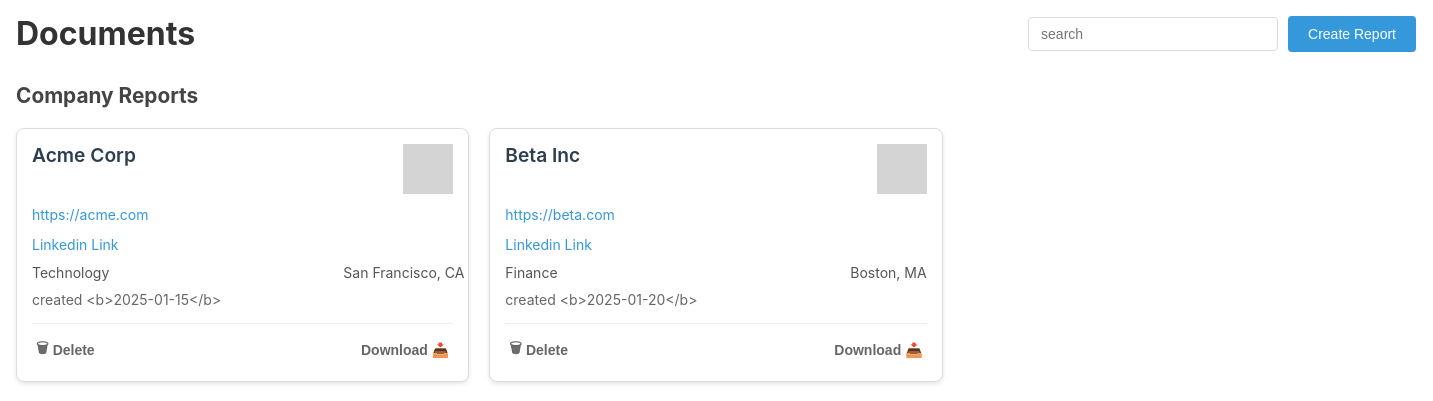
Test: Documents Component › Search Functionality › search is case insensitive
Expected: the heading "Acme Corp" is shown, [32,143,136,167]
Step 1. Type "acme" into the field with placeholder "search" → (1153, 34), box [1028,16,1278,50]
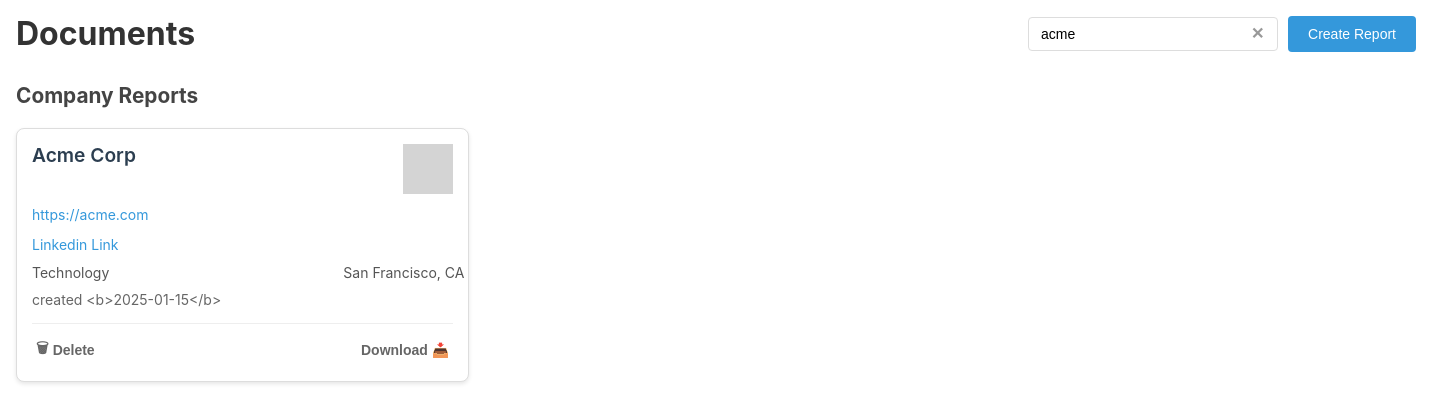
Expected: the heading "Acme Corp" is shown, [32,143,136,167]
Now the heading "Beta Inc" is gone
